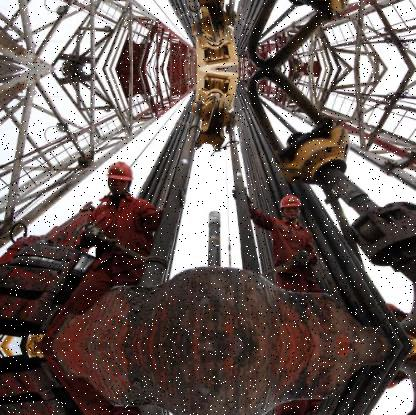helmet: (106, 158, 135, 196), (279, 193, 303, 219)
